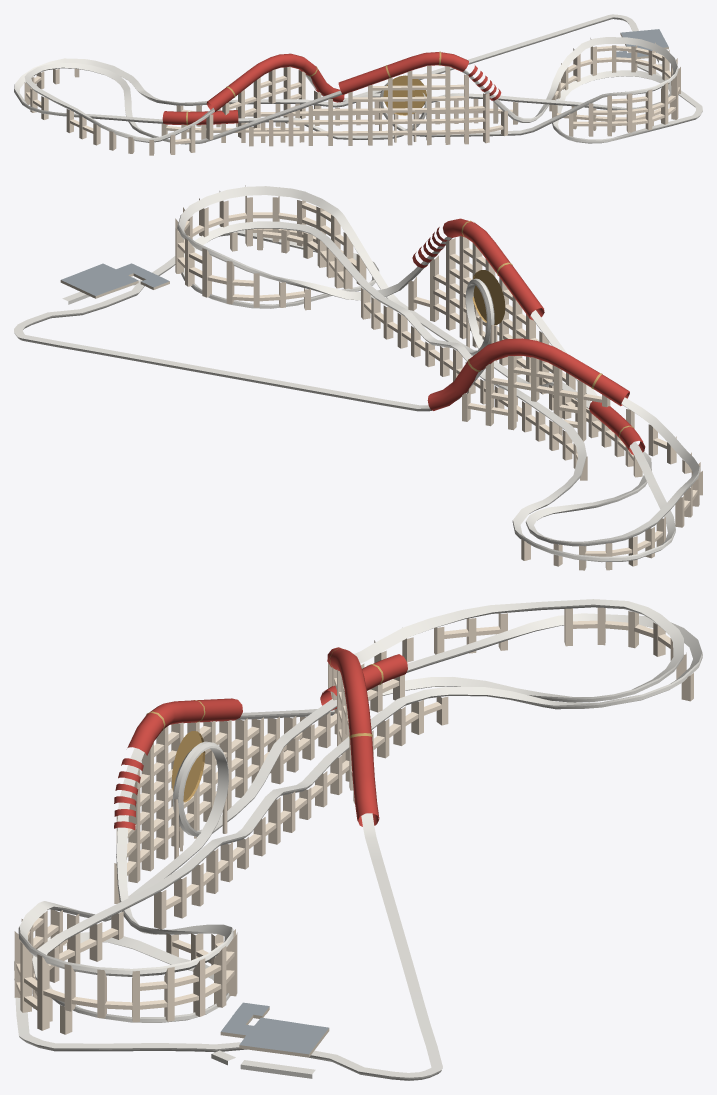
3 renders of one model, top to bottom at view 1: azimuth 30°, elevation 25°; view 2: azimuth 150°, elevation 25°; view 3: azimuth 270°, elevation 25°, orthographic. The views are drawn at different scales.
Visible parts, largest first — view 1: incredicoaster-disneyland; view 2: incredicoaster-disneyland; view 3: incredicoaster-disneyland.
Boxes of the visible parts, x1,y1,x2,y2 form: incredicoaster-disneyland: (14,14,702,155); incredicoaster-disneyland: (14,185,702,570); incredicoaster-disneyland: (14,599,702,1080).
Bounding box in the file's own units: 257 × 40.56 × 167.
